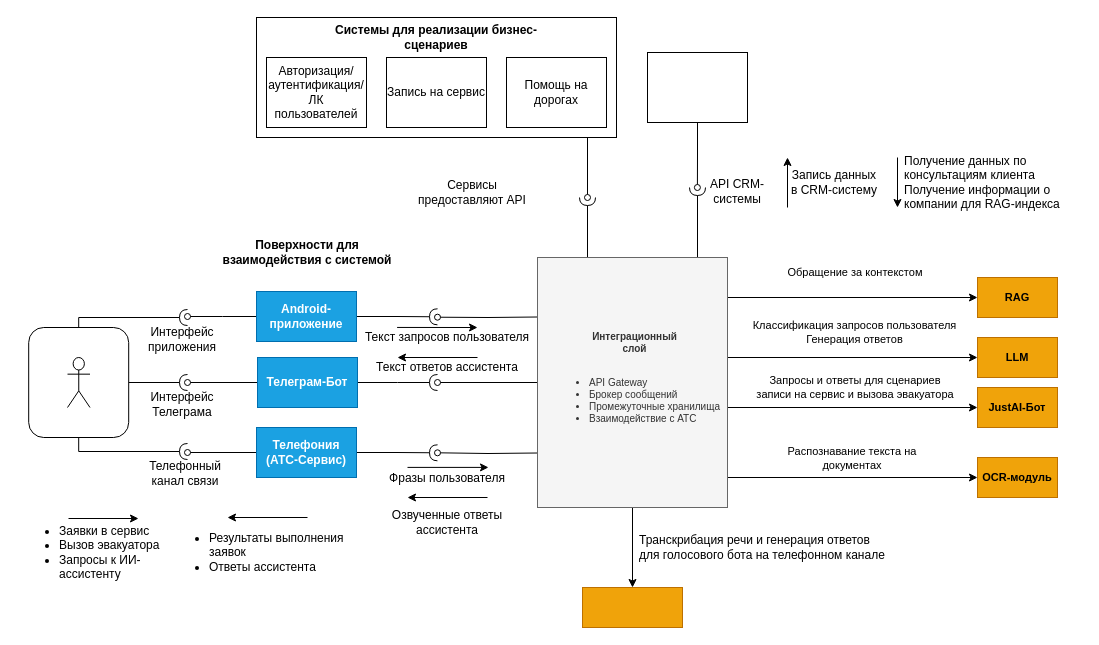
The diagram is 1099 pixels wide and 645 high, and some of its shapes have lost their labels. The box of each missing label's shape, as (x1, y1, x2, y2) in pixels:
CRM-система: (646, 52, 748, 122)
Модуль ASR/TTS: (582, 586, 682, 628)
Пользователь: (66, 356, 90, 408)
